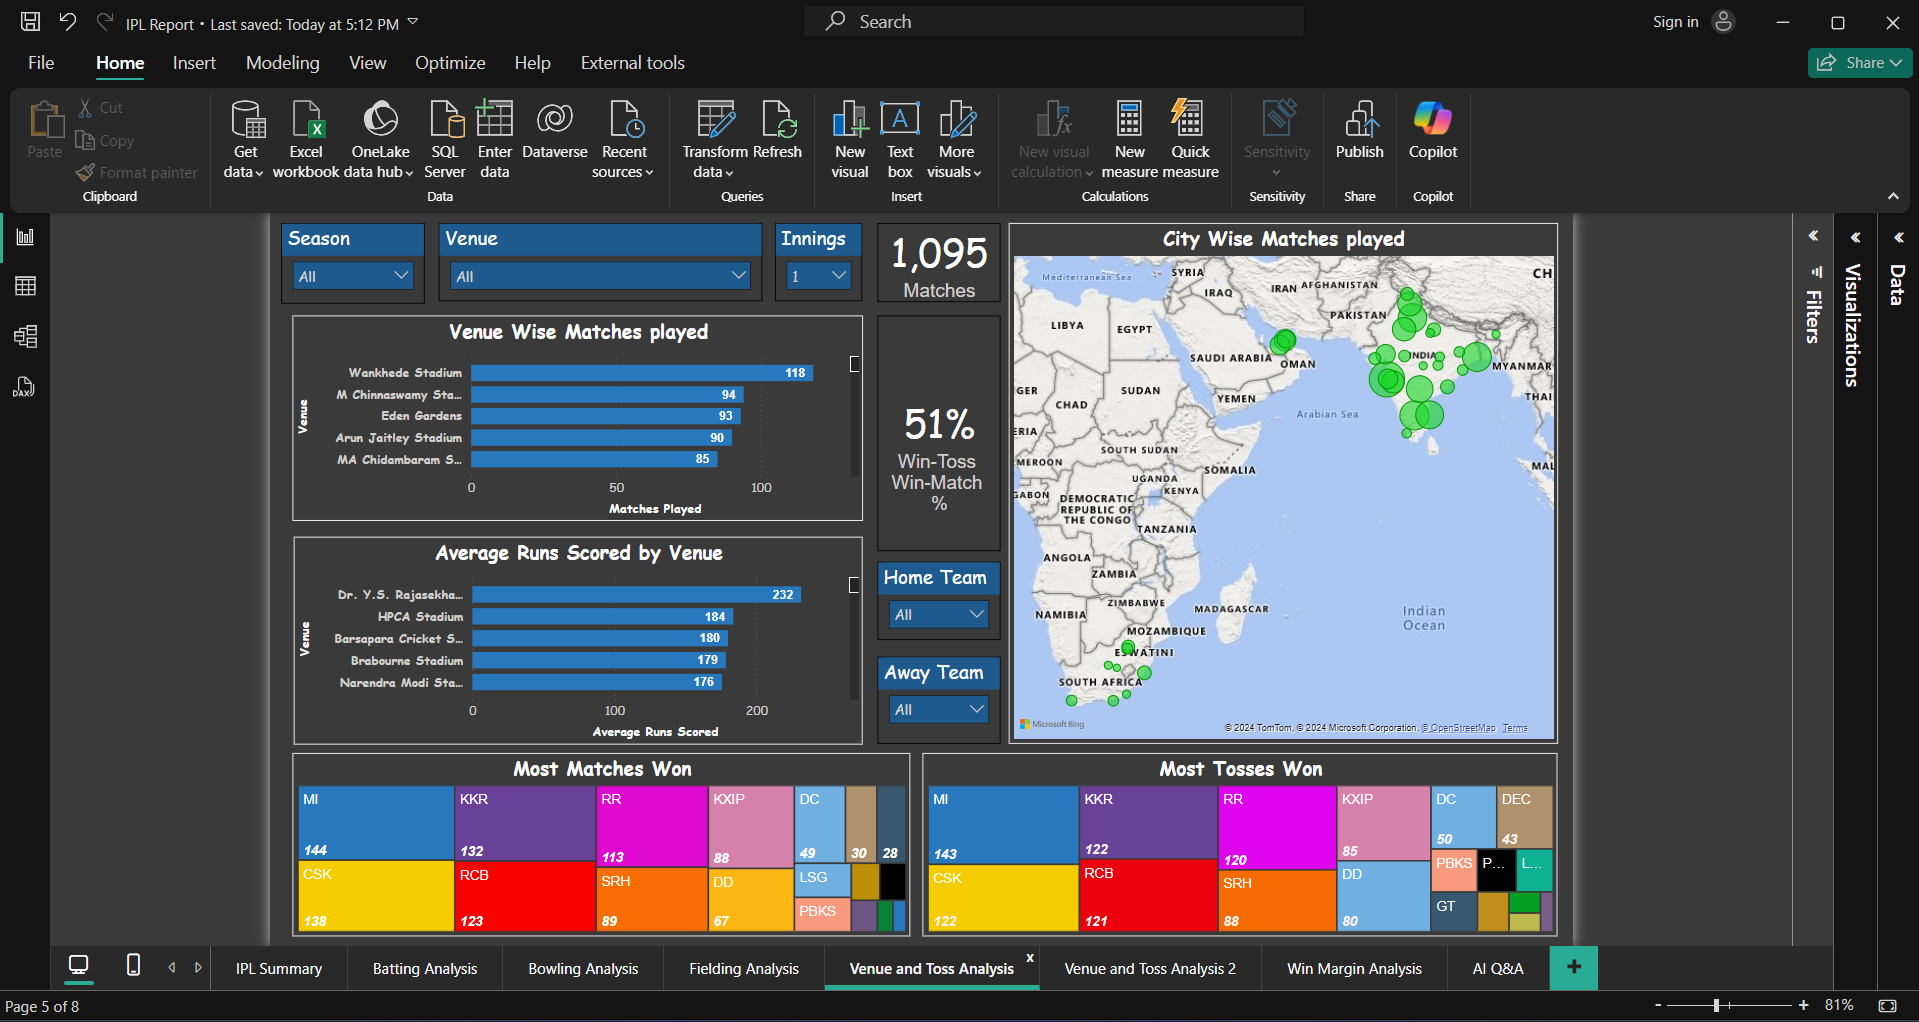

This screenshot's page, from the dashboard's own definition file:
{"tool":"powerbi","page":{"name":"Venue and Toss Analysis","canvas":[1280,720],"ordinal":4},"visuals":[{"type":"clusteredBarChart","title":"Venue Wise Matches played","fields":{"Category":["IPL_Matches.Venue"],"Y":["CountNonNull(IPL_Matches.ID)"]},"box":[21.6,100.2,560.4,201.6],"z":0},{"type":"slicer","title":"Season","fields":{"Values":["IPL_Matches.Season"]},"box":[11.5,10.2,140.9,79.4],"z":1000},{"type":"slicer","title":"Venue","fields":{"Values":["IPL_Matches.Venue"]},"box":[165.2,10.2,317.6,76.8],"z":2000},{"type":"slicer","title":"Innings","fields":{"Values":["IPL_Ball_by_Ball.Innings"]},"box":[495.6,10.2,85.8,76.8],"z":3000},{"type":"card","fields":{"Values":["Count(IPL_Ball_by_Ball.ID)"]},"box":[595.9,10.1,120.4,77.3],"z":4000},{"type":"map","title":"City Wise Matches played","fields":{"Size":["CountNonNull(IPL_Matches.ID)"],"Category":["IPL_Matches.Updated City"]},"box":[725.2,10.1,538.8,510.9],"z":5000},{"type":"treemap","title":"Most Matches Won","fields":{"Group":["IPL_Matches.Winning Team (SF)"],"Values":["CountNonNull(IPL_Matches.ID)"]},"box":[21.7,530.7,606.6,179.7],"z":6000},{"type":"clusteredBarChart","title":"Average Runs Scored by Venue","fields":{"Category":["IPL_Matches.Venue"],"Y":["IPL_Ball_by_Ball.Average Runs Scored"]},"box":[23,317.6,558.3,203.6],"z":7000},{"type":"treemap","title":"Most Tosses Won","fields":{"Values":["CountNonNull(IPL_Matches.TossWinner)"],"Group":["IPL_Matches.Toss Winner (SF)"]},"box":[640.4,530.7,623.5,179.7],"z":8000},{"type":"card","fields":{"Values":["IPL_Matches.WTWM %"]},"box":[595.8,100.1,120.6,231.6],"z":9000},{"type":"slicer","title":"Home Team","fields":{"Values":["IPL_Matches.Home Team (SF)"]},"box":[595.8,342.5,120.6,77.2],"z":10000},{"type":"slicer","title":"Away Team","fields":{"Values":["IPL_Matches.Away Team (SF)"]},"box":[595.8,435.4,120.6,85.6],"z":11000}]}

Visuals, with their boxes on the page's 1280x720 design canvas (x1, y1, x2, y2). These are canvas units, not pixel positions in the 1919x1022 screenshot, which may show the page scaled, cropped or inside an application window:
"Venue Wise Matches played" clusteredBarChart: <bbox>22, 100, 582, 302</bbox>
"Season" slicer: <bbox>12, 10, 152, 90</bbox>
"Venue" slicer: <bbox>165, 10, 483, 87</bbox>
"Innings" slicer: <bbox>496, 10, 581, 87</bbox>
card - Count(IPL_Ball_by_Ball.ID): <bbox>596, 10, 716, 87</bbox>
"City Wise Matches played" map: <bbox>725, 10, 1264, 521</bbox>
"Most Matches Won" treemap: <bbox>22, 531, 628, 710</bbox>
"Average Runs Scored by Venue" clusteredBarChart: <bbox>23, 318, 581, 521</bbox>
"Most Tosses Won" treemap: <bbox>640, 531, 1264, 710</bbox>
card - IPL_Matches.WTWM %: <bbox>596, 100, 716, 332</bbox>
"Home Team" slicer: <bbox>596, 342, 716, 420</bbox>
"Away Team" slicer: <bbox>596, 435, 716, 521</bbox>
